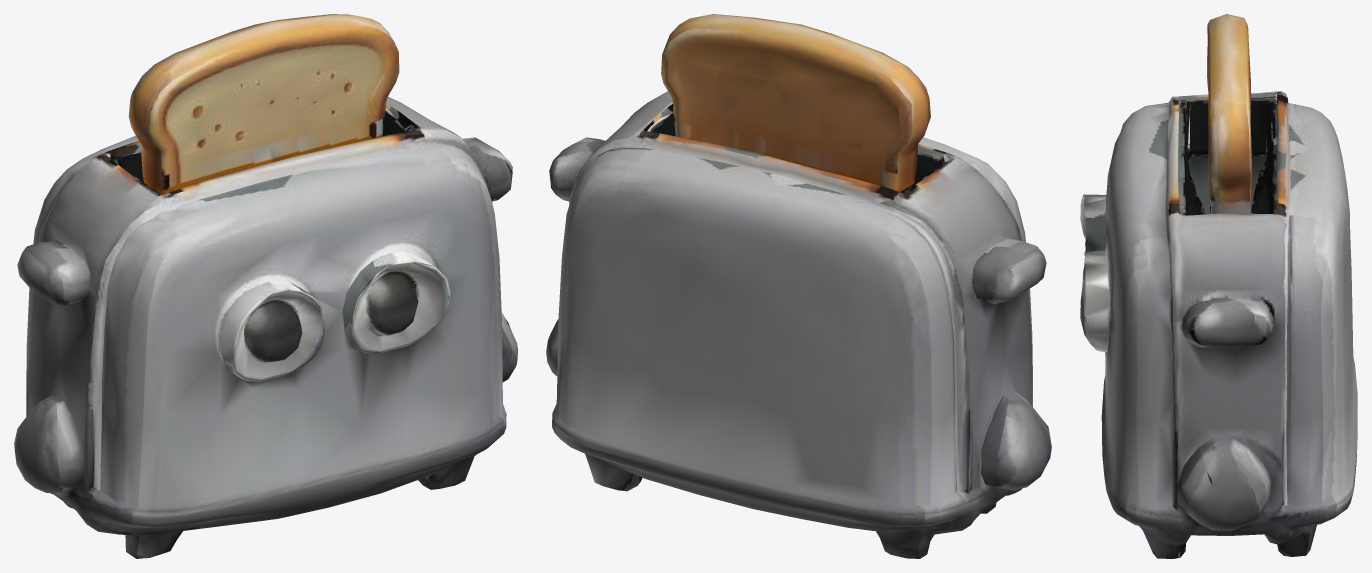
Rendered from toaster.glb.
The picture shows the model from 3 angles, left to right: view 1: azimuth 30°, elevation 25°; view 2: azimuth 150°, elevation 25°; view 3: azimuth 270°, elevation 25°; orthographic projection. The views are drawn at different scales.
Parts seen in each view (by area): view 1: Body; view 2: Body; view 3: Body.
Boxes of the visible parts, x1,y1,x2,y2 form: Body: (14,14,517,558); Body: (546,14,1051,558); Body: (1080,14,1357,558).
Size of the model in its own units: 0.9948 by 0.9074 by 0.5213.
Materials: 1 (1 with a texture image).
